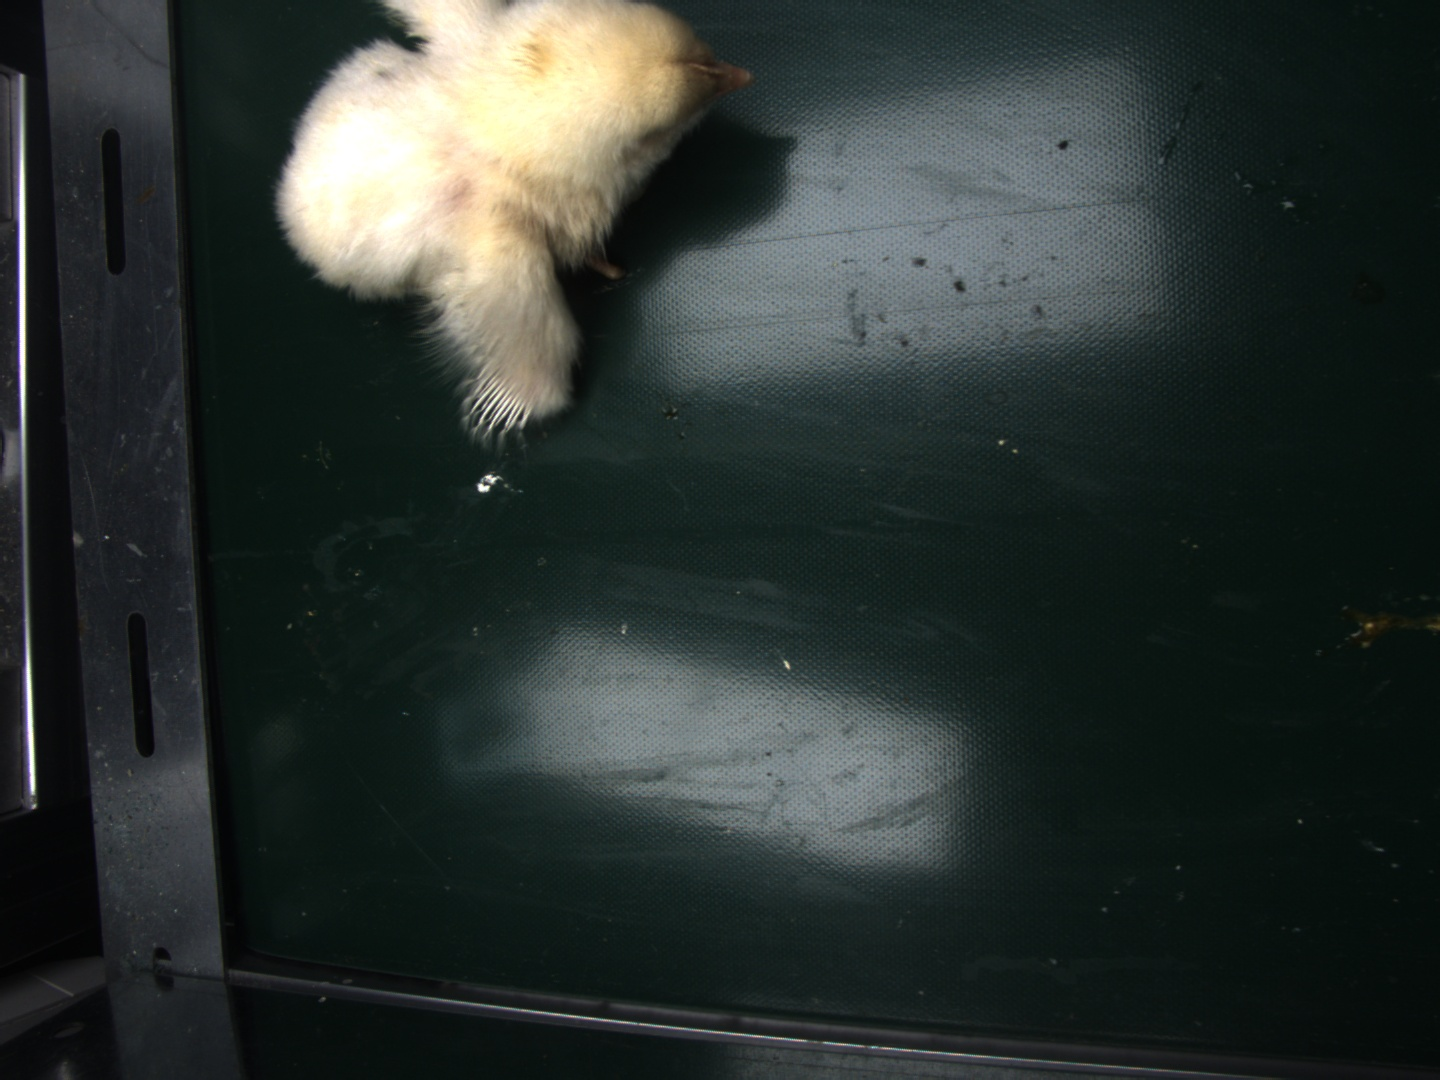male: (471, 369, 539, 431)
